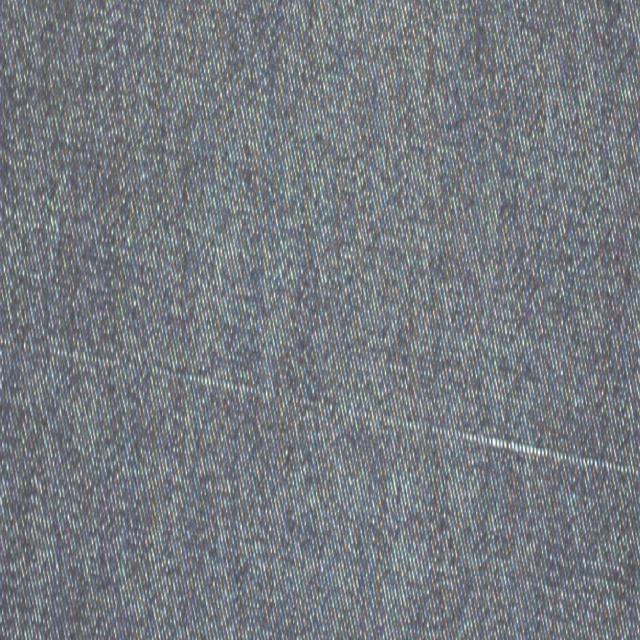Line: (0, 330, 640, 483)
